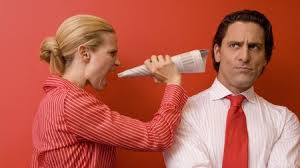person: (203, 12, 300, 131), (36, 17, 145, 112)
